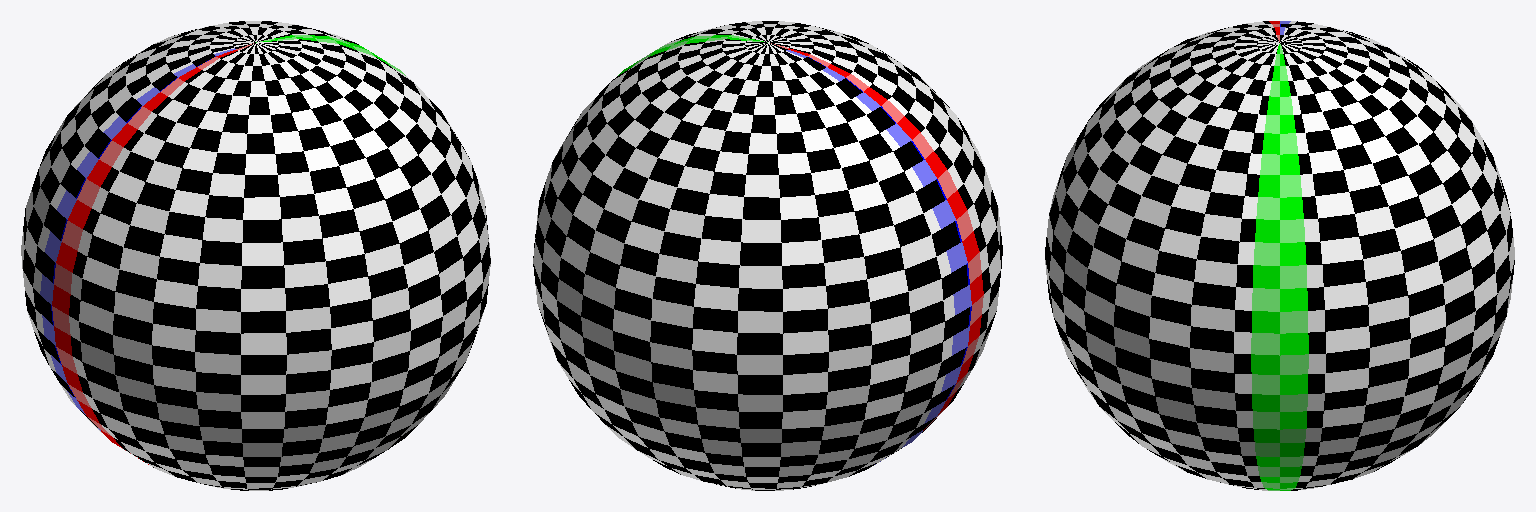
The picture shows the model from 3 angles: view 1: azimuth 30°, elevation 25°; view 2: azimuth 150°, elevation 25°; view 3: azimuth 270°, elevation 25°; orthographic projection.
Visible parts, largest first — view 1: Sphere; view 2: Sphere; view 3: Sphere.
Boxes of the visible parts, <box> form: Sphere: <box>21,21,490,490</box>; Sphere: <box>533,21,1002,490</box>; Sphere: <box>1045,21,1514,490</box>.
Size of the model in its own units: 2 by 2 by 2.
Materials: 1 (1 with a texture image).